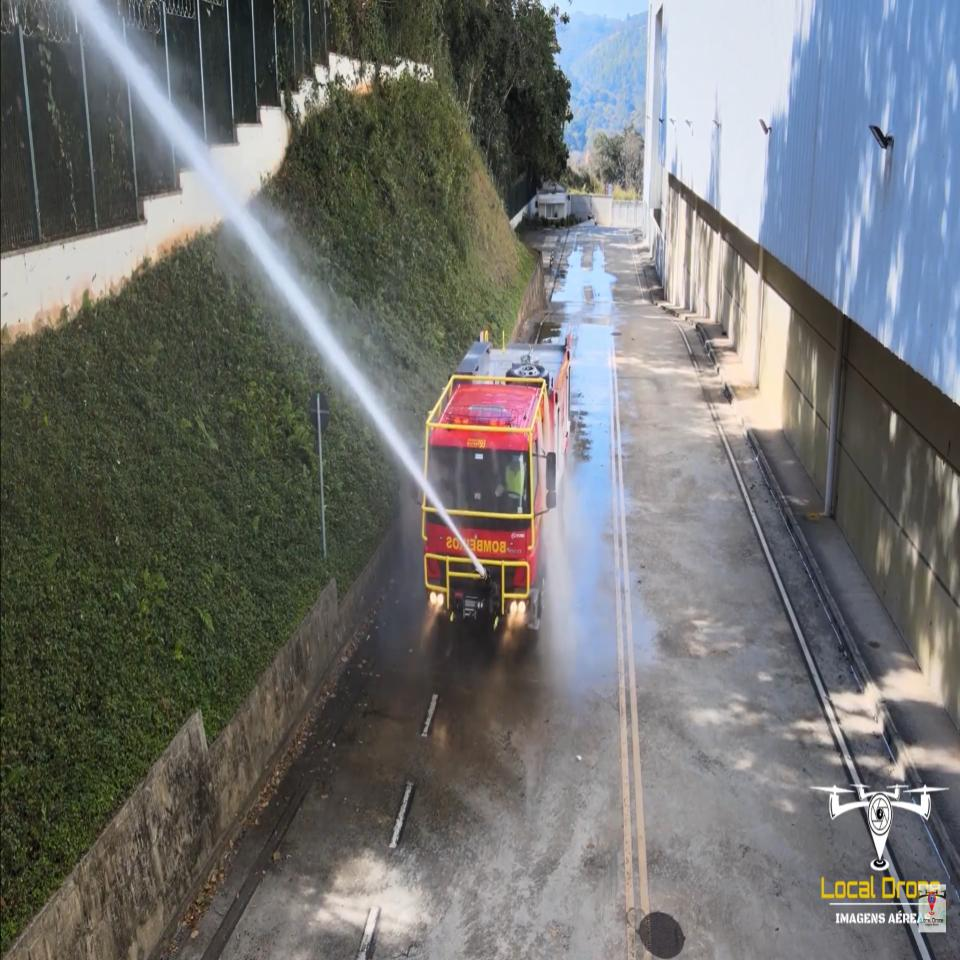viatura: (423, 319, 576, 644)
